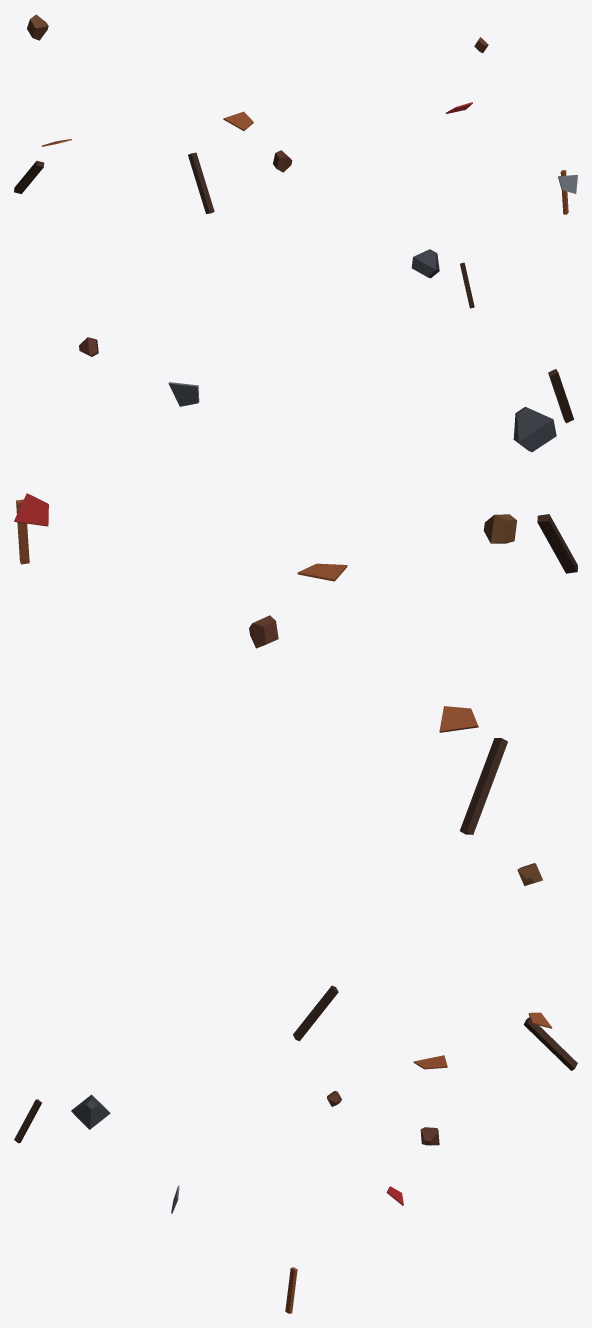
Rendered from SM_Env_DebrisField_LQ.glb.
3 renders of one model, top to bottom at view 1: azimuth 30°, elevation 25°; view 2: azimuth 150°, elevation 25°; view 3: azimuth 270°, elevation 25°, orthographic. The views are drawn at different scales.
Visible parts, largest first — view 1: SM_Env_DebrisField_LQ; view 2: SM_Env_DebrisField_LQ; view 3: SM_Env_DebrisField_LQ.
Boxes of the visible parts, x1,y1,x2,y2 form: SM_Env_DebrisField_LQ: [14, 14, 577, 308]; SM_Env_DebrisField_LQ: [14, 337, 577, 834]; SM_Env_DebrisField_LQ: [14, 863, 577, 1313].
Size of the model in its own units: 28.47 by 13.83 by 30.46.
1 material, 1 textured.
